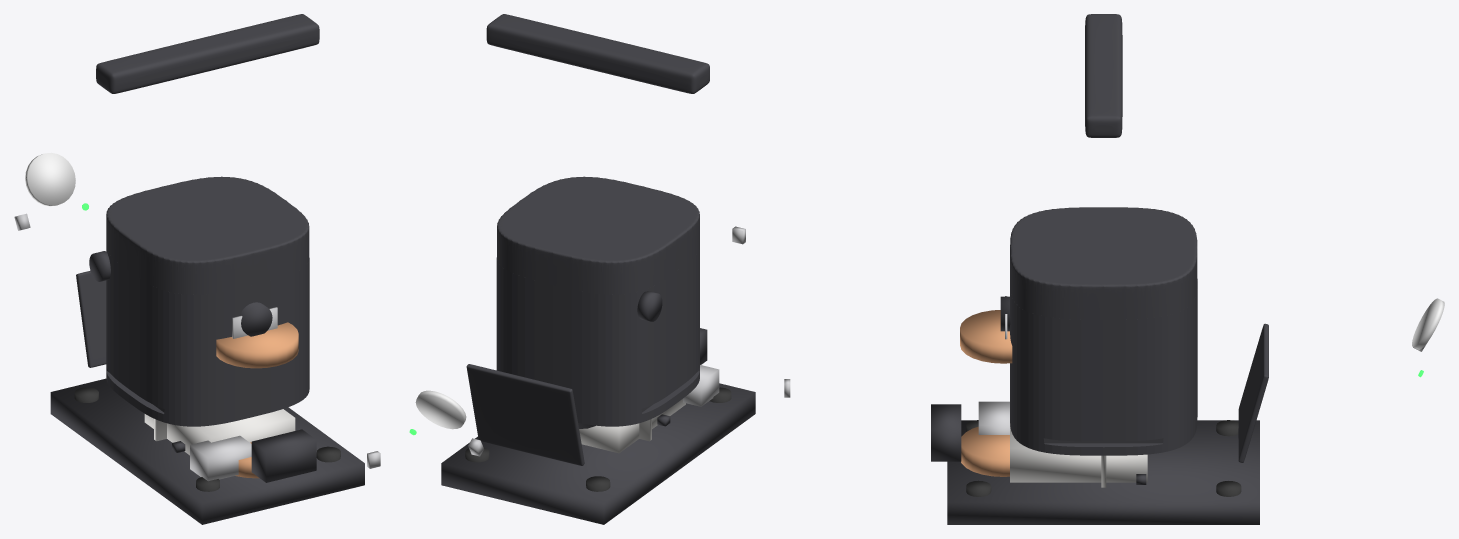
File: vacuum_pump_reference.glb
The picture shows the model from 3 angles, left to right: view 1: azimuth 30°, elevation 25°; view 2: azimuth 150°, elevation 25°; view 3: azimuth 270°, elevation 25°; orthographic projection. The views are drawn at different scales.
Parts seen in each view (by area): view 1: Housing_Lower, Housing_Upper, BaseRim, Handle, Part_C3_Power_Inlet, Motor_Coils_F, Part_C2_Power_Supply, Panel_Front, UI_Gauge, Part_C4_EMI_Filter, Exhaust_Silencer, Knob_Ballast; view 2: Housing_Lower, Housing_Upper, BaseRim, Panel_Front, Handle, Part_C2_Power_Supply, UI_Gauge, Part_C4_EMI_Filter, Knob_Ballast; view 3: Housing_Lower, Housing_Upper, BaseRim, Handle, Part_C2_Power_Supply, Motor_Coils_F, Panel_Front, Motor_Coils_B, Part_C3_Power_Inlet, Part_C4_EMI_Filter, UI_Gauge.
Boxes of the visible parts, bbox=[...] form: Housing_Lower: bbox=[106, 248, 309, 426]; Housing_Upper: bbox=[106, 176, 309, 307]; BaseRim: bbox=[50, 378, 364, 524]; Handle: bbox=[96, 14, 319, 93]; Part_C3_Power_Inlet: bbox=[251, 429, 316, 482]; Motor_Coils_F: bbox=[216, 322, 298, 368]; Part_C2_Power_Supply: bbox=[144, 409, 295, 455]; Panel_Front: bbox=[76, 270, 106, 367]; UI_Gauge: bbox=[25, 152, 75, 206]; Part_C4_EMI_Filter: bbox=[190, 435, 251, 481]; Exhaust_Silencer: bbox=[239, 302, 272, 336]; Knob_Ballast: bbox=[89, 251, 110, 281]; Housing_Lower: bbox=[496, 248, 699, 426]; Housing_Upper: bbox=[497, 176, 699, 306]; BaseRim: bbox=[441, 383, 755, 524]; Panel_Front: bbox=[466, 364, 584, 465]; Handle: bbox=[486, 14, 709, 93]; Part_C2_Power_Supply: bbox=[579, 399, 685, 453]; UI_Gauge: bbox=[415, 390, 466, 429]; Part_C4_EMI_Filter: bbox=[683, 365, 719, 406]; Knob_Ballast: bbox=[637, 291, 662, 321]; Housing_Lower: bbox=[1010, 279, 1197, 455]; Housing_Upper: bbox=[1010, 207, 1197, 333]; BaseRim: bbox=[947, 420, 1259, 524]; Handle: bbox=[1085, 14, 1122, 137]; Part_C2_Power_Supply: bbox=[1010, 423, 1147, 482]; Motor_Coils_F: bbox=[960, 310, 1012, 363]; Panel_Front: bbox=[1238, 323, 1268, 462]; Motor_Coils_B: bbox=[961, 426, 1009, 476]; Part_C3_Power_Inlet: bbox=[931, 404, 961, 461]; Part_C4_EMI_Filter: bbox=[978, 401, 1009, 434]; UI_Gauge: bbox=[1412, 298, 1444, 349].
Bounding box in the file's own units: 0.2 × 0.37 × 0.5282.
